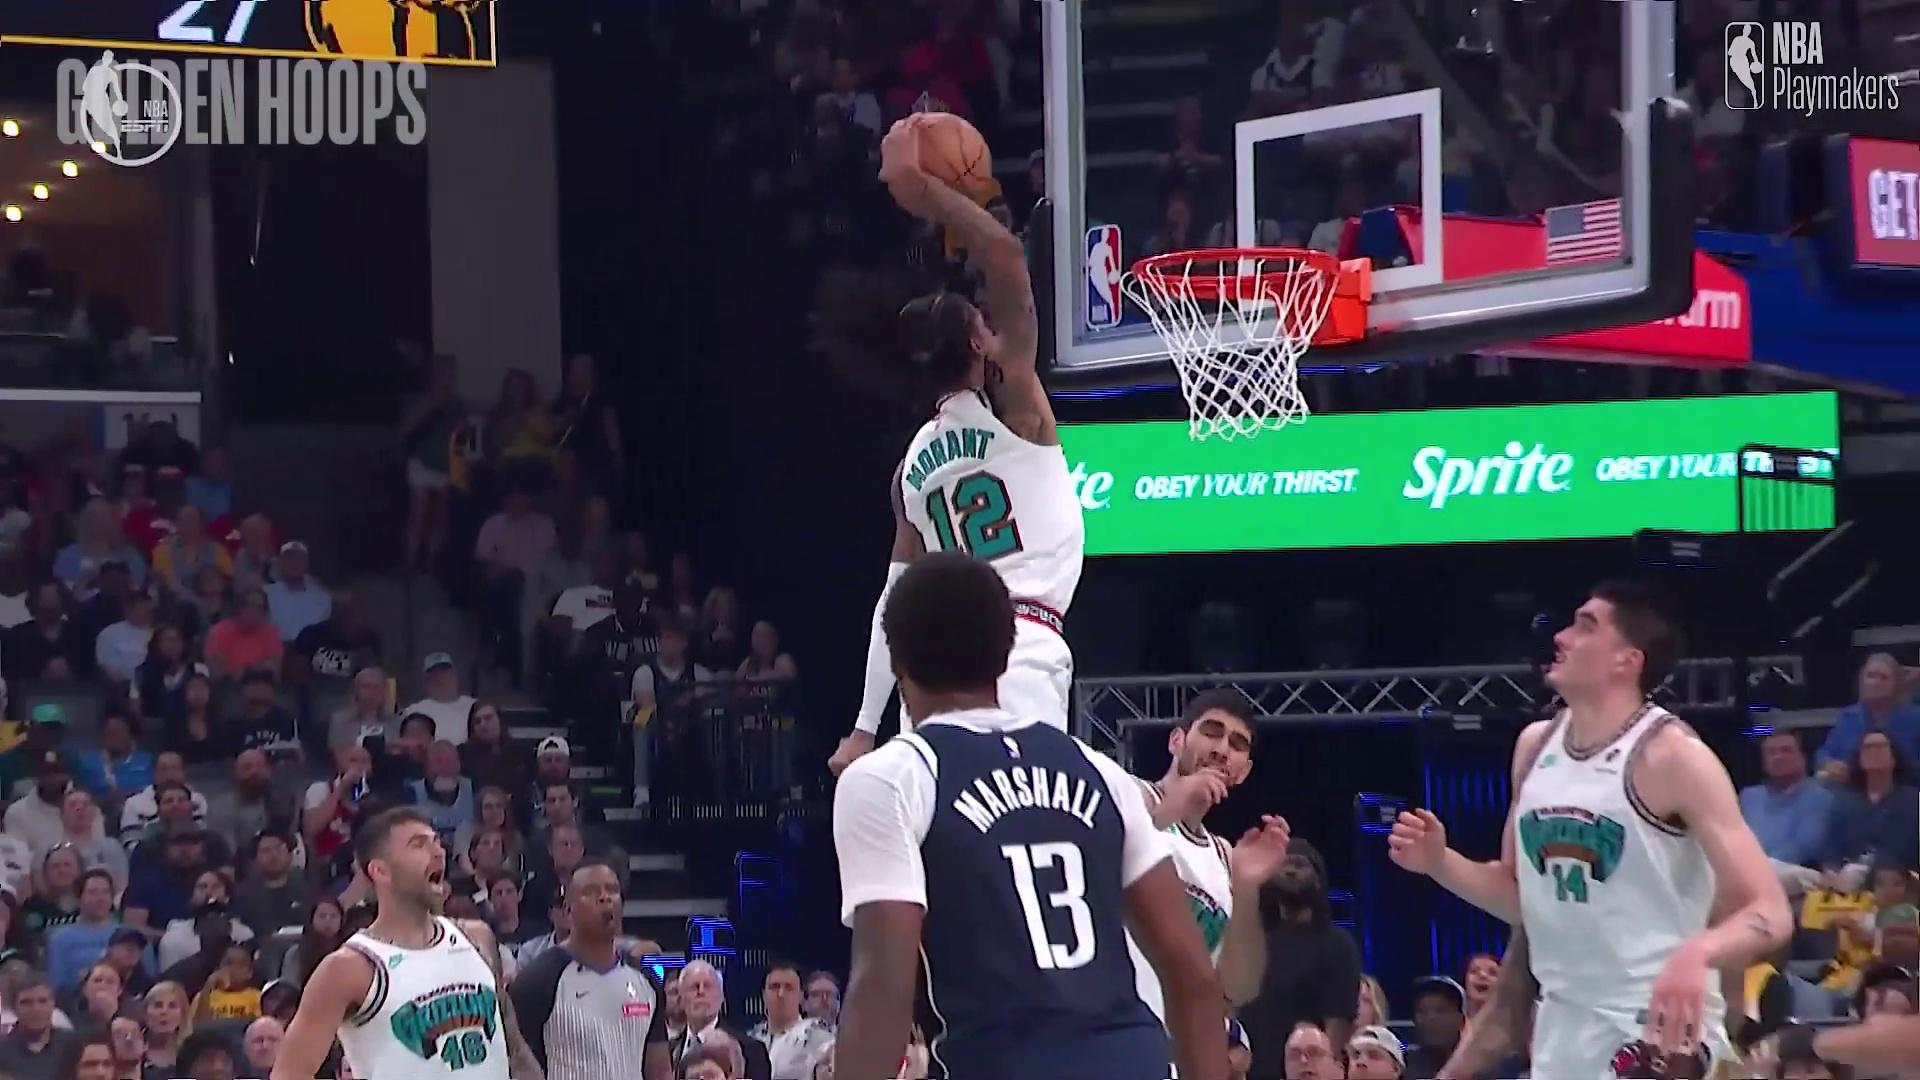ball: (895, 123, 992, 219)
hoop: (1130, 224, 1335, 448)
